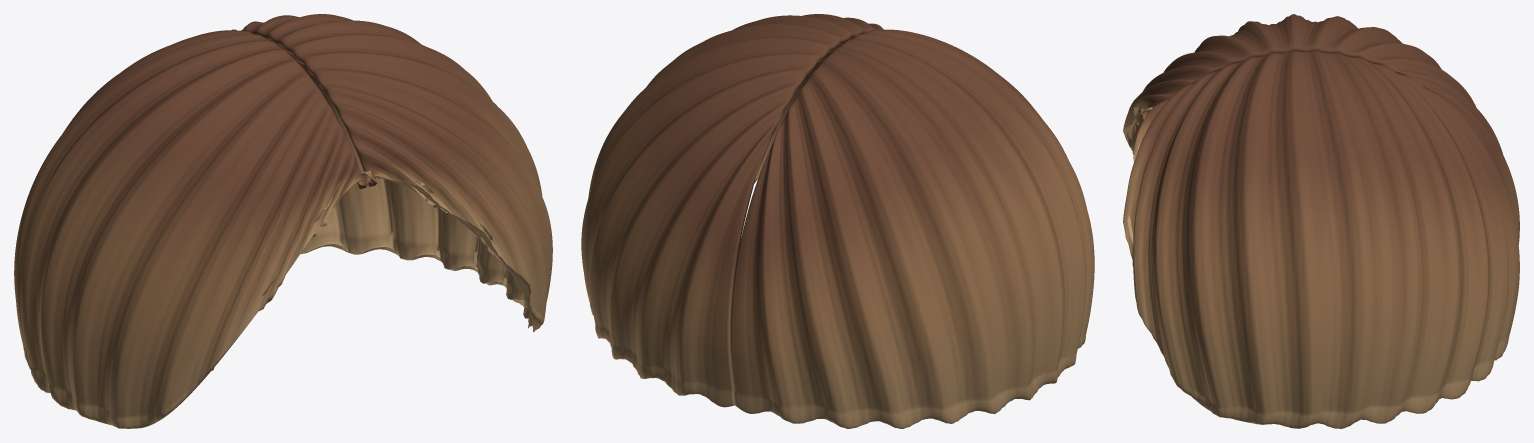
The model's file is Ombre-a6ae87496c76253-hair.glb.
The picture shows the model from 3 angles, left to right: view 1: azimuth 30°, elevation 25°; view 2: azimuth 150°, elevation 25°; view 3: azimuth 270°, elevation 25°; orthographic projection. The views are drawn at different scales.
Visible parts, largest first — view 1: 226 hair / Hair252 / flowing sculpt middle.001; view 2: 226 hair / Hair252 / flowing sculpt middle.001; view 3: 226 hair / Hair252 / flowing sculpt middle.001.
Boxes of the visible parts, left/top/right/bottom form: 226 hair / Hair252 / flowing sculpt middle.001: left=14, top=14, right=552, bottom=428; 226 hair / Hair252 / flowing sculpt middle.001: left=581, top=14, right=1094, bottom=428; 226 hair / Hair252 / flowing sculpt middle.001: left=1123, top=14, right=1519, bottom=428.
Bounding box in the file's own units: 1.06 × 0.6587 × 0.8322.
Materials: 1 (1 with a texture image).
